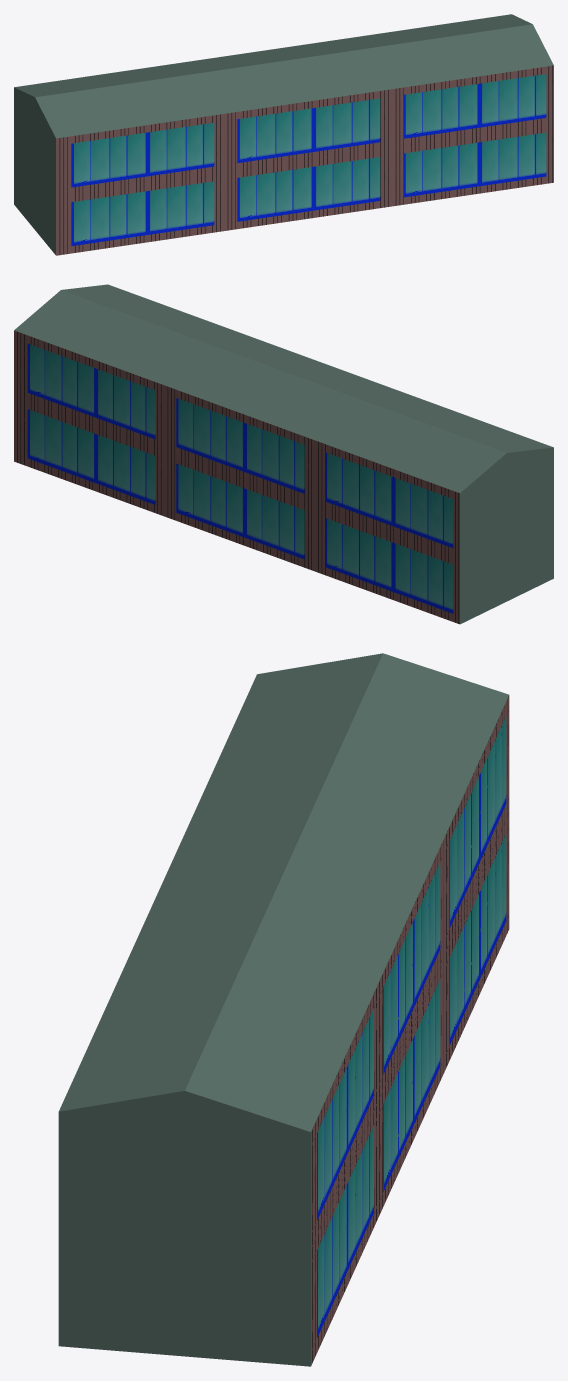
The model's file is yumaoqiuguan.fbx.
3 views of the same model, one above another, from view 1: azimuth 30°, elevation 25°; view 2: azimuth 150°, elevation 25°; view 3: azimuth 270°, elevation 25° (orthographic). The views are drawn at different scales.
Parts seen in each view (by area): view 1: CityEngineMaterial_3_m, CityEngineMaterial_m, CityEngineMaterial_2_m; view 2: CityEngineMaterial_m, CityEngineMaterial_3_m, CityEngineMaterial_2_m; view 3: CityEngineMaterial_m, CityEngineMaterial_3_m, CityEngineMaterial_2_m.
Boxes of the visible parts, x1=… form: CityEngineMaterial_3_m: x1=71, y1=74, x2=546, y2=246; CityEngineMaterial_m: x1=14, y1=14, x2=553, y2=254; CityEngineMaterial_2_m: x1=56, y1=65, x2=553, y2=255; CityEngineMaterial_m: x1=14, y1=284, x2=553, y2=624; CityEngineMaterial_3_m: x1=27, y1=344, x2=453, y2=613; CityEngineMaterial_2_m: x1=14, y1=330, x2=459, y2=624; CityEngineMaterial_m: x1=58, y1=653, x2=508, y2=1366; CityEngineMaterial_3_m: x1=317, y1=716, x2=506, y2=1337; CityEngineMaterial_2_m: x1=311, y1=695, x2=509, y2=1365.
Bounding box in the file's own units: 67.01 × 18.13 × 27.87.
